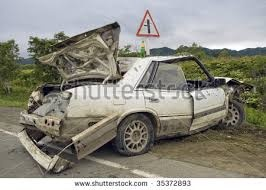Smashed: (23, 45, 246, 162)
